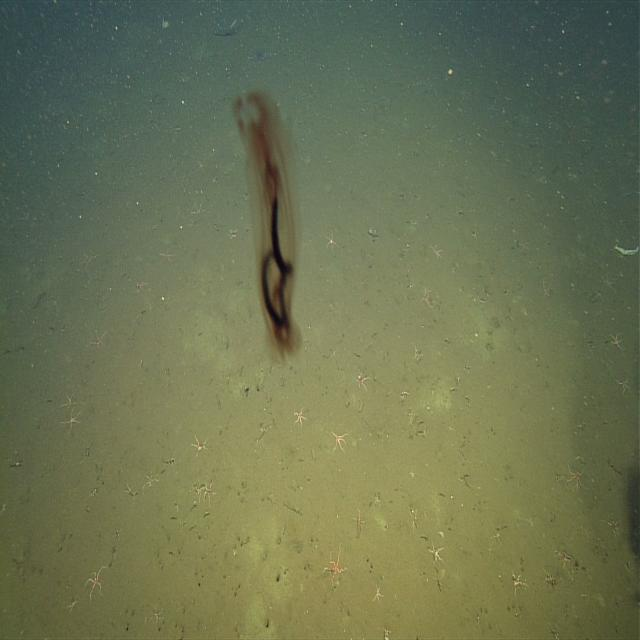Brittle Star: (322, 544, 349, 593), (83, 558, 109, 606), (328, 425, 348, 457), (61, 403, 83, 432), (201, 474, 218, 510), (188, 430, 209, 457), (427, 541, 445, 567), (324, 225, 340, 254), (90, 329, 109, 349), (292, 405, 308, 428), (371, 581, 383, 604)
Not Brittle Star: (229, 82, 305, 364)
